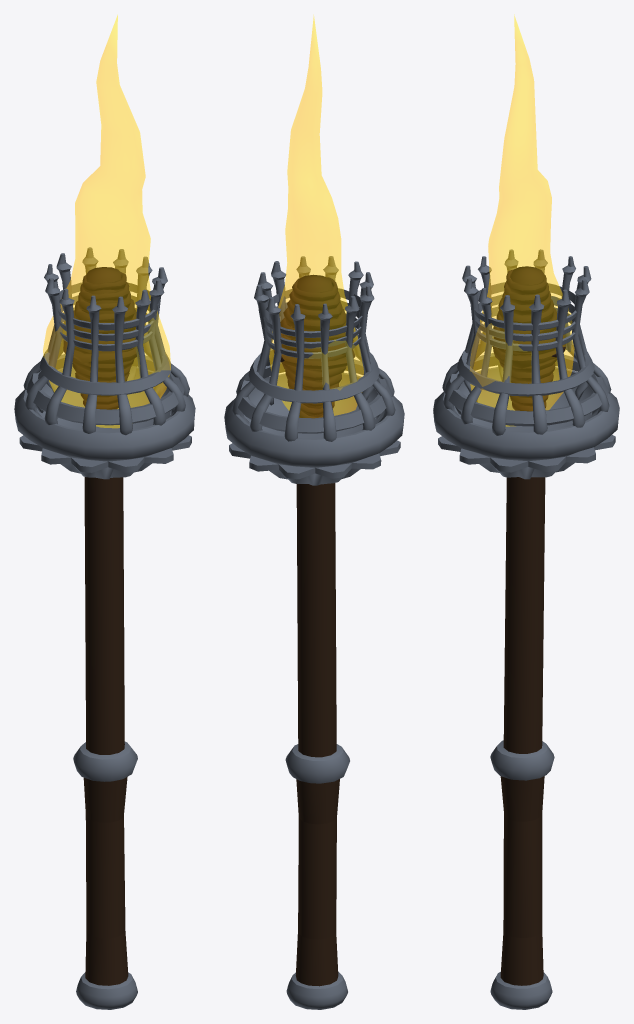
The model's file is burning_torch.glb.
The picture shows the model from 3 angles, left to right: view 1: azimuth 30°, elevation 25°; view 2: azimuth 150°, elevation 25°; view 3: azimuth 270°, elevation 25°; orthographic projection.
Parts seen in each view (by area): view 1: torche_metallic_clean_1, torche_wood_leather_2, torche_fire_flame_0; view 2: torche_metallic_clean_1, torche_wood_leather_2, torche_fire_flame_0; view 3: torche_metallic_clean_1, torche_wood_leather_2, torche_fire_flame_0.
Part boxes in pixels (left/top/right/bottom): torche_metallic_clean_1: left=14, top=247, right=195, bottom=1009; torche_wood_leather_2: left=63, top=267, right=136, bottom=985; torche_fire_flame_0: left=43, top=15, right=170, bottom=428; torche_metallic_clean_1: left=224, top=256, right=404, bottom=1009; torche_wood_leather_2: left=273, top=274, right=355, bottom=986; torche_fire_flame_0: left=269, top=15, right=363, bottom=417; torche_metallic_clean_1: left=433, top=249, right=619, bottom=1009; torche_wood_leather_2: left=492, top=266, right=565, bottom=985; torche_fire_flame_0: left=470, top=14, right=574, bottom=426.
Size of the model in its own units: 1.99 by 12.06 by 2.06.
